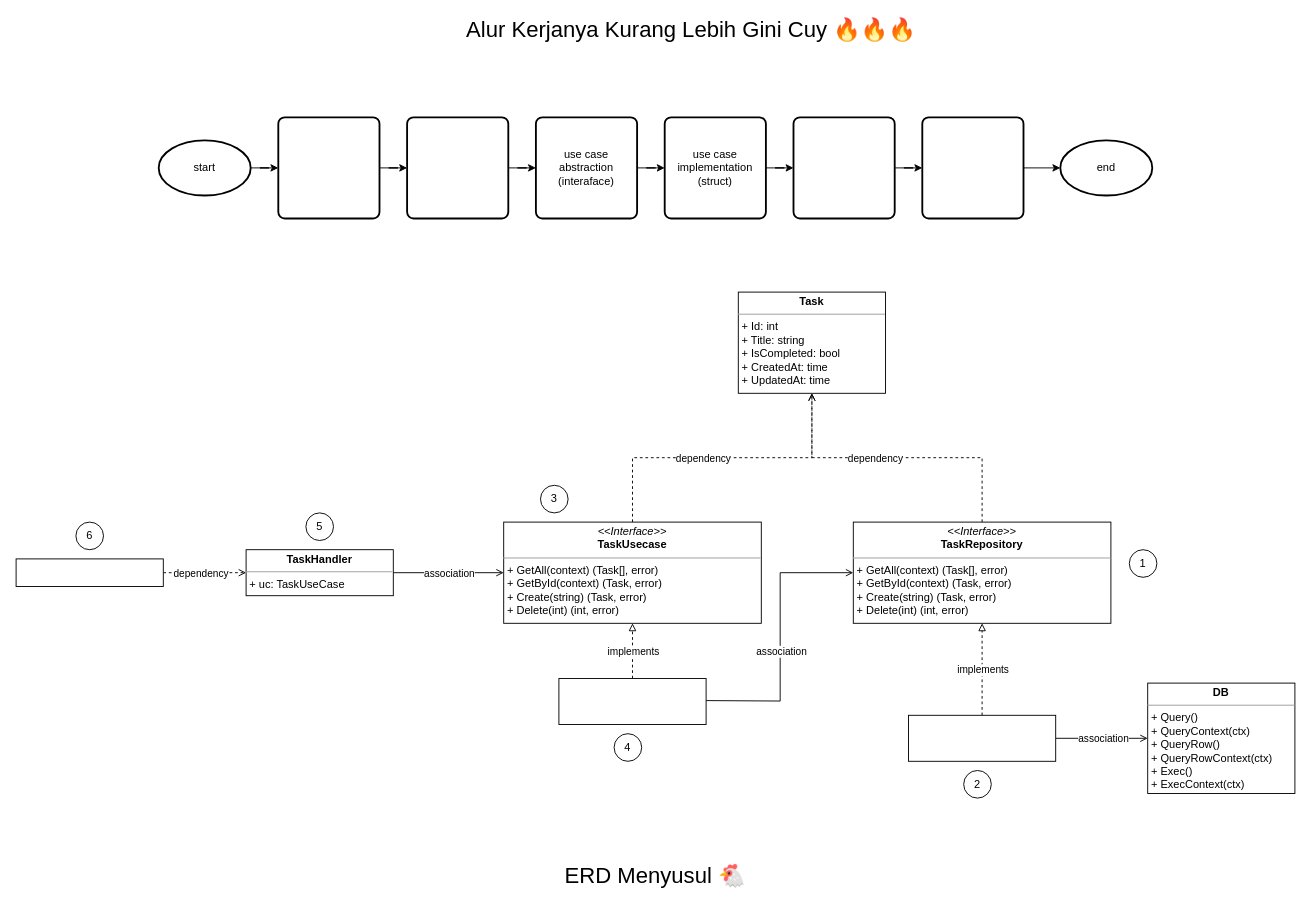
This 1311x905 diagram has some shape labels left out. Each missing label, with the box of its shape:
handler (struct): (792, 116, 895, 219)
repo abstraction (interface): (277, 116, 380, 219)
repo implementation (struct): (406, 116, 509, 219)
router: (921, 116, 1024, 219)
Routes: (15, 558, 163, 586)
TaskRepo + db: DB: (908, 714, 1056, 761)
TaskUc + repo: TaskRepository: (558, 678, 706, 724)
